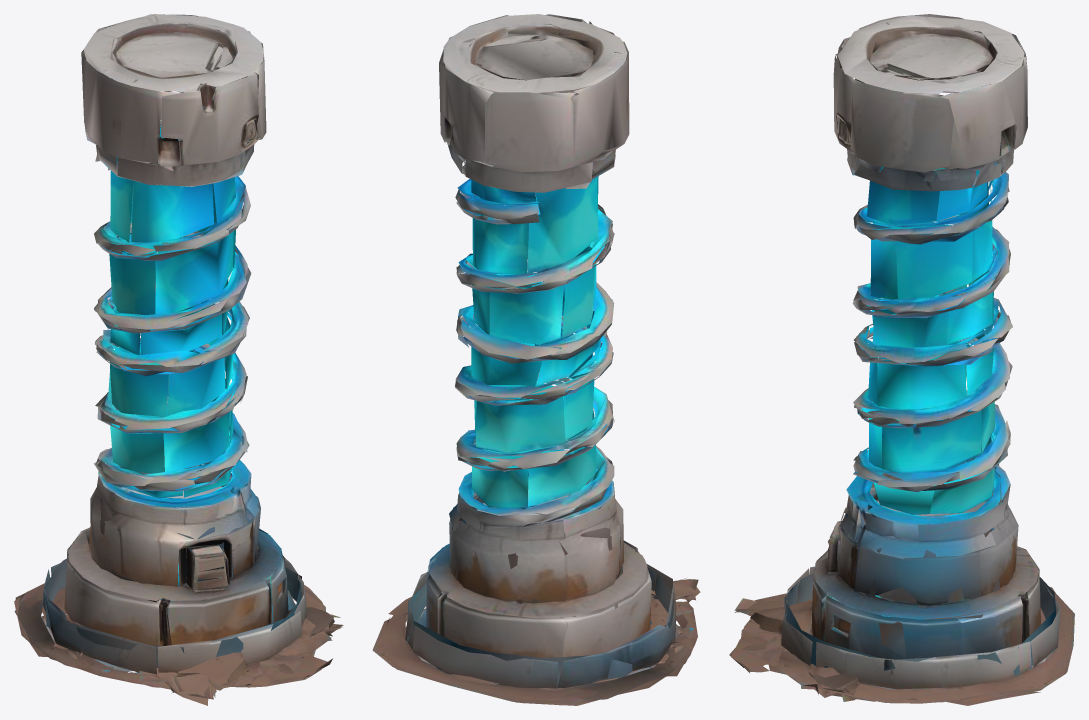
Rendered from pylon.glb.
3 renders of one model, left to right at view 1: azimuth 30°, elevation 25°; view 2: azimuth 150°, elevation 25°; view 3: azimuth 270°, elevation 25°, orthographic. The views are drawn at different scales.
Visible parts, largest first — view 1: pylon, socket; view 2: pylon, socket; view 3: pylon, socket.
Boxes of the visible parts, x1=… form: pylon: x1=42, y1=14, x2=334, y2=687; socket: x1=14, y1=550, x2=343, y2=705; pylon: x1=426, y1=14, x2=694, y2=688; socket: x1=372, y1=564, x2=700, y2=705; pylon: x1=741, y1=14, x2=1065, y2=695; socket: x1=729, y1=566, x2=1074, y2=705.
Bounding box in the file's own units: 0.4133 × 0.8564 × 0.4483.
Materials: 1 (1 with a texture image).
